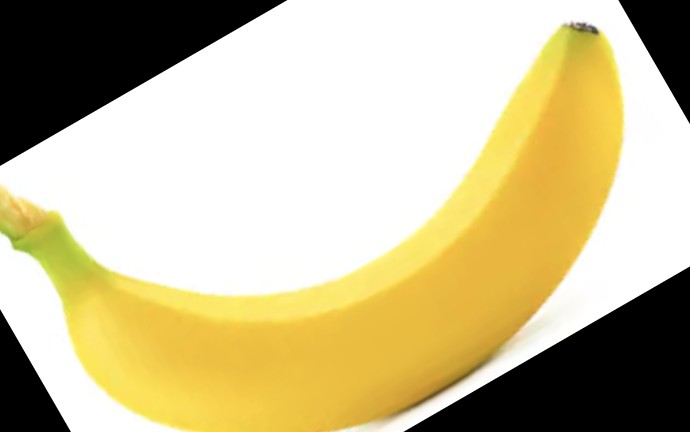fresh_banana: (1, 20, 624, 432)
